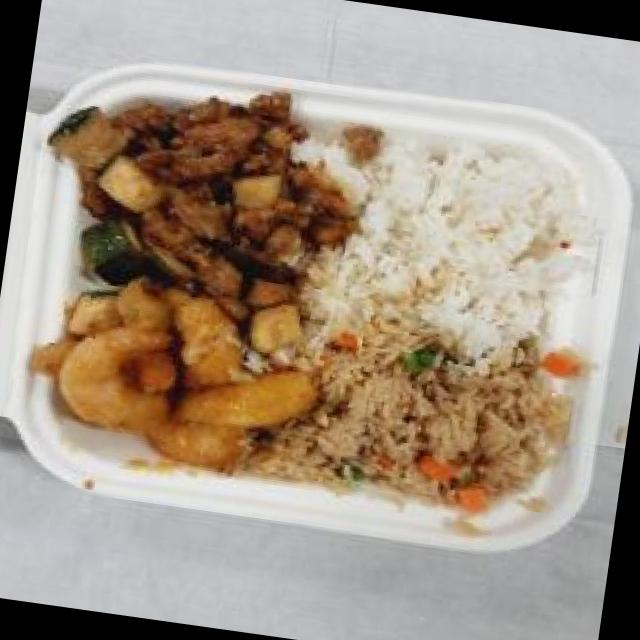Fried Rice: (286, 318, 586, 534)
Honey Walnut Shrimp: (21, 259, 336, 495)
Kung Pao Chicken: (31, 61, 356, 313)
White Steamed Rice: (337, 132, 588, 344)
